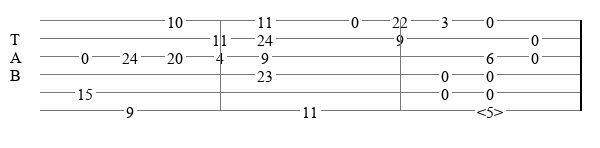0: (81, 49, 93, 64), (351, 13, 363, 28), (441, 67, 453, 82), (441, 85, 453, 100), (486, 13, 498, 28), (486, 67, 498, 82), (486, 85, 498, 100), (531, 31, 543, 46), (531, 49, 543, 64)
10: (167, 13, 187, 28)
11: (212, 31, 232, 46), (257, 13, 277, 28), (302, 103, 322, 118)
15: (77, 85, 97, 100)
20: (167, 49, 187, 64)
22: (392, 13, 412, 28)
23: (257, 67, 277, 82)
24: (122, 49, 142, 64), (257, 31, 277, 46)
3: (441, 13, 453, 28)
4: (216, 49, 228, 64)
6: (486, 49, 498, 64)
9: (126, 103, 138, 118), (261, 49, 273, 64), (396, 31, 408, 46)
harmonic: (477, 103, 507, 118)
